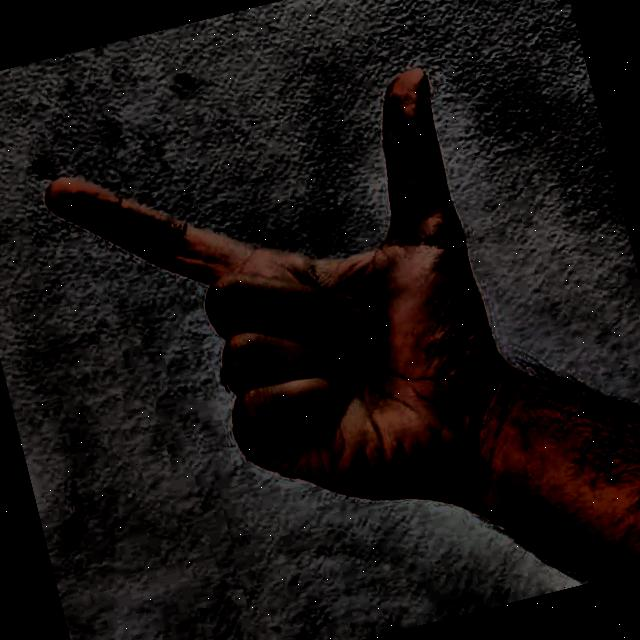ChandraBindu: (9, 4, 584, 598)
